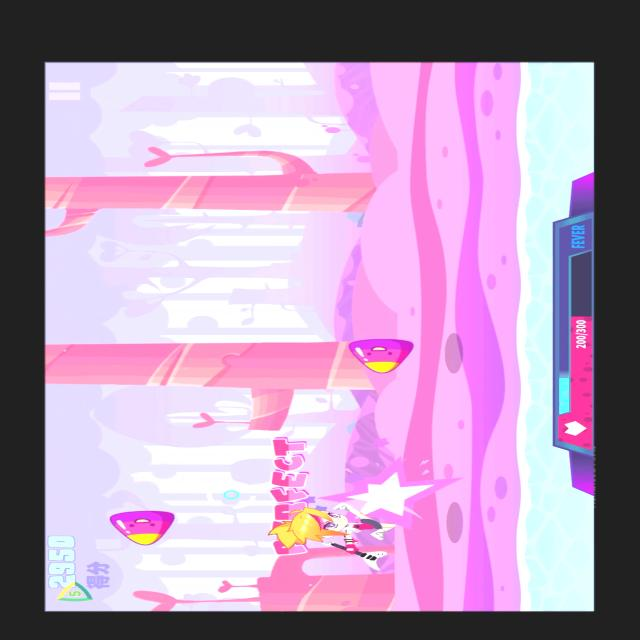Ground Monster - Red Bullet: (326, 329, 436, 381), (99, 501, 194, 552)
